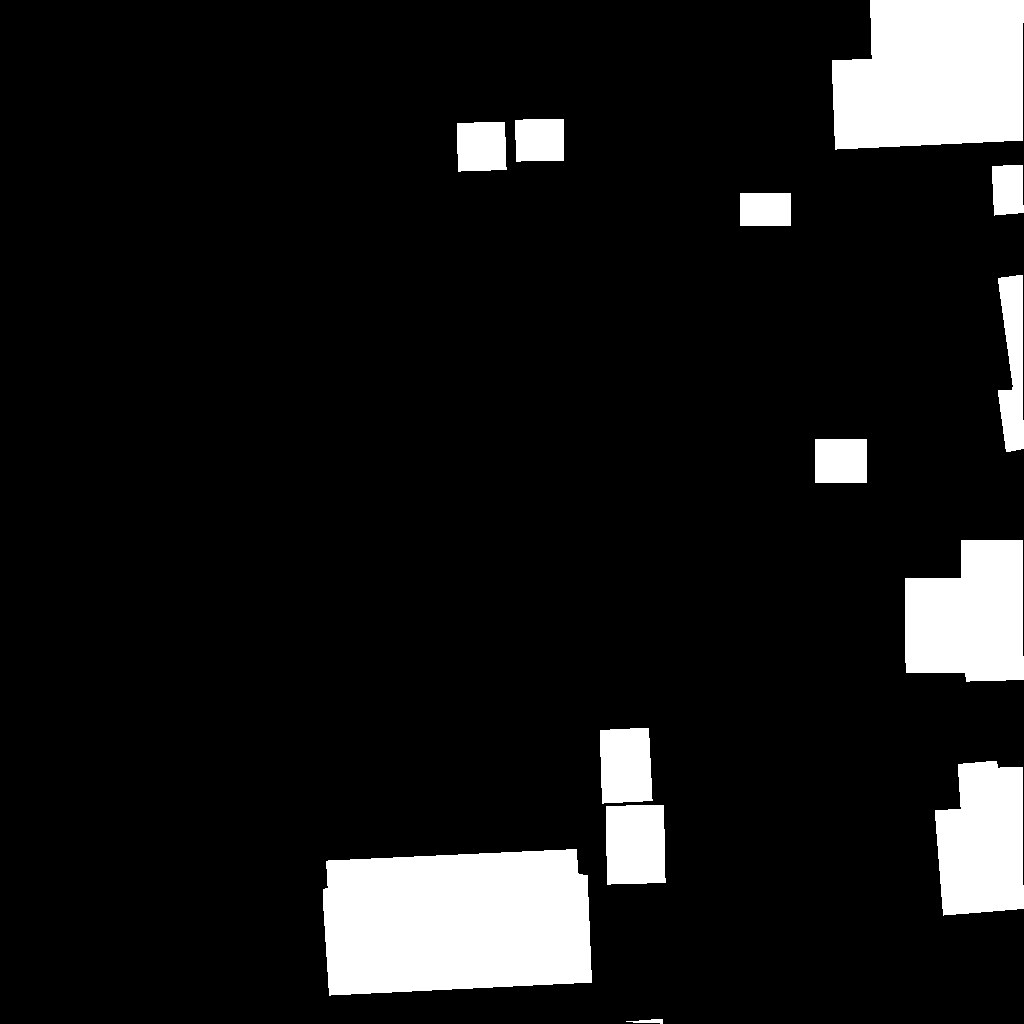building: (323, 849, 593, 996), (832, 0, 1024, 150), (905, 540, 1024, 682), (935, 761, 1024, 916), (606, 805, 666, 885), (998, 275, 1024, 453), (600, 728, 653, 804), (457, 122, 507, 172), (815, 439, 868, 483), (515, 119, 565, 162), (740, 193, 792, 226), (992, 165, 1024, 216), (620, 1019, 664, 1024)
